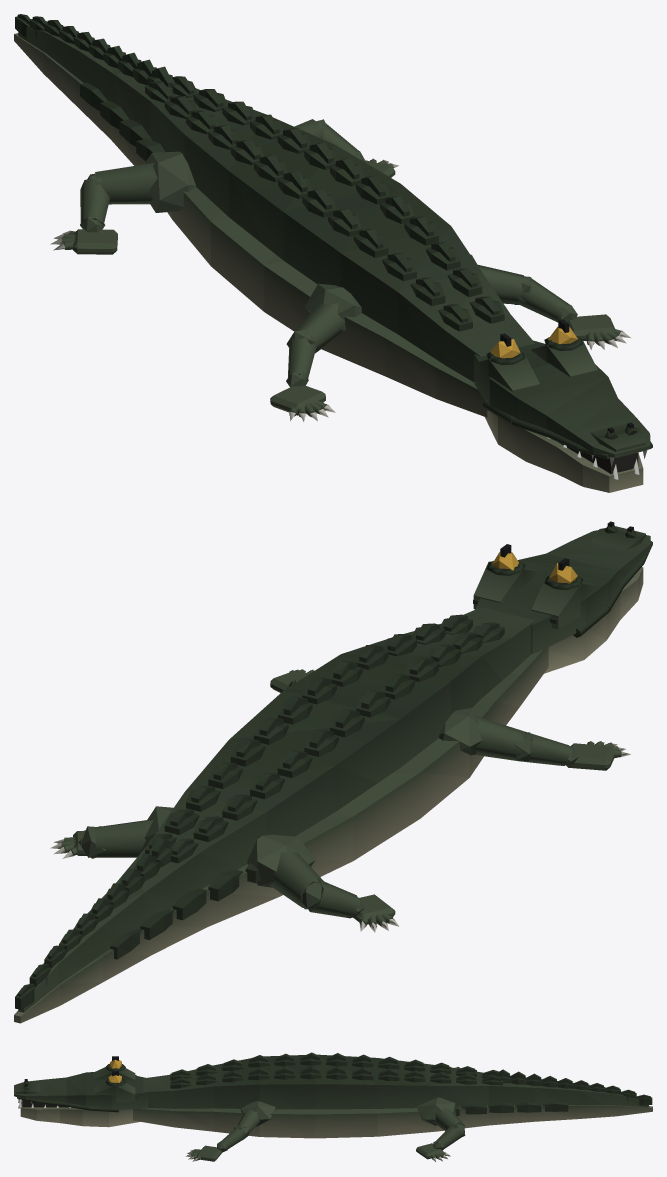
Rendered from basking-alligator.glb.
3 renders of one model, top to bottom at view 1: azimuth 30°, elevation 25°; view 2: azimuth 150°, elevation 25°; view 3: azimuth 270°, elevation 25°, orthographic. The views are drawn at different scales.
Parts seen in each view (by area): view 1: basking_alligator; view 2: basking_alligator; view 3: basking_alligator.
Boxes of the visible parts, <box> form: basking_alligator: <box>14,14,652,492</box>; basking_alligator: <box>14,521,652,1023</box>; basking_alligator: <box>14,1052,652,1161</box>.
Bounding box in the file's own units: 1.27 × 0.3999 × 3.9.
